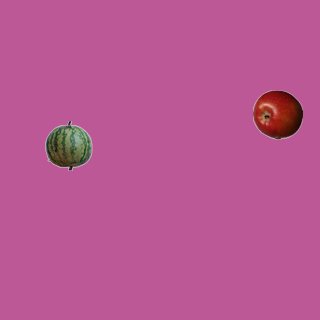Apple Braeburn: (252, 89, 302, 139)
Watermelon: (43, 120, 93, 170)
